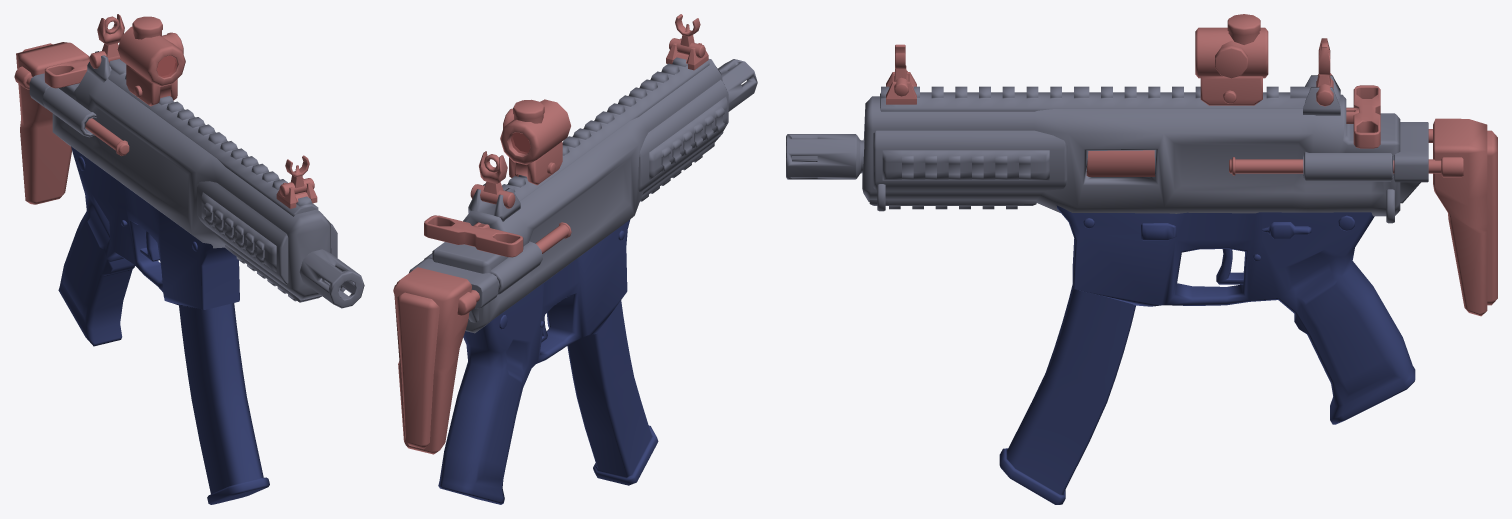
The picture shows the model from 3 angles, left to right: view 1: azimuth 30°, elevation 25°; view 2: azimuth 150°, elevation 25°; view 3: azimuth 270°, elevation 25°; orthographic projection. The views are drawn at different scales.
Parts seen in each view (by area): view 1: pasted__pasted__pCube17; view 2: pasted__pasted__pCube17; view 3: pasted__pasted__pCube17.
Part boxes in pixels (left/top/right/bottom): pasted__pasted__pCube17: left=14, top=14, right=364, bottom=504; pasted__pasted__pCube17: left=393, top=14, right=757, bottom=504; pasted__pasted__pCube17: left=786, top=14, right=1497, bottom=504.
Size of the model in its own units: 115 by 518 by 701.
